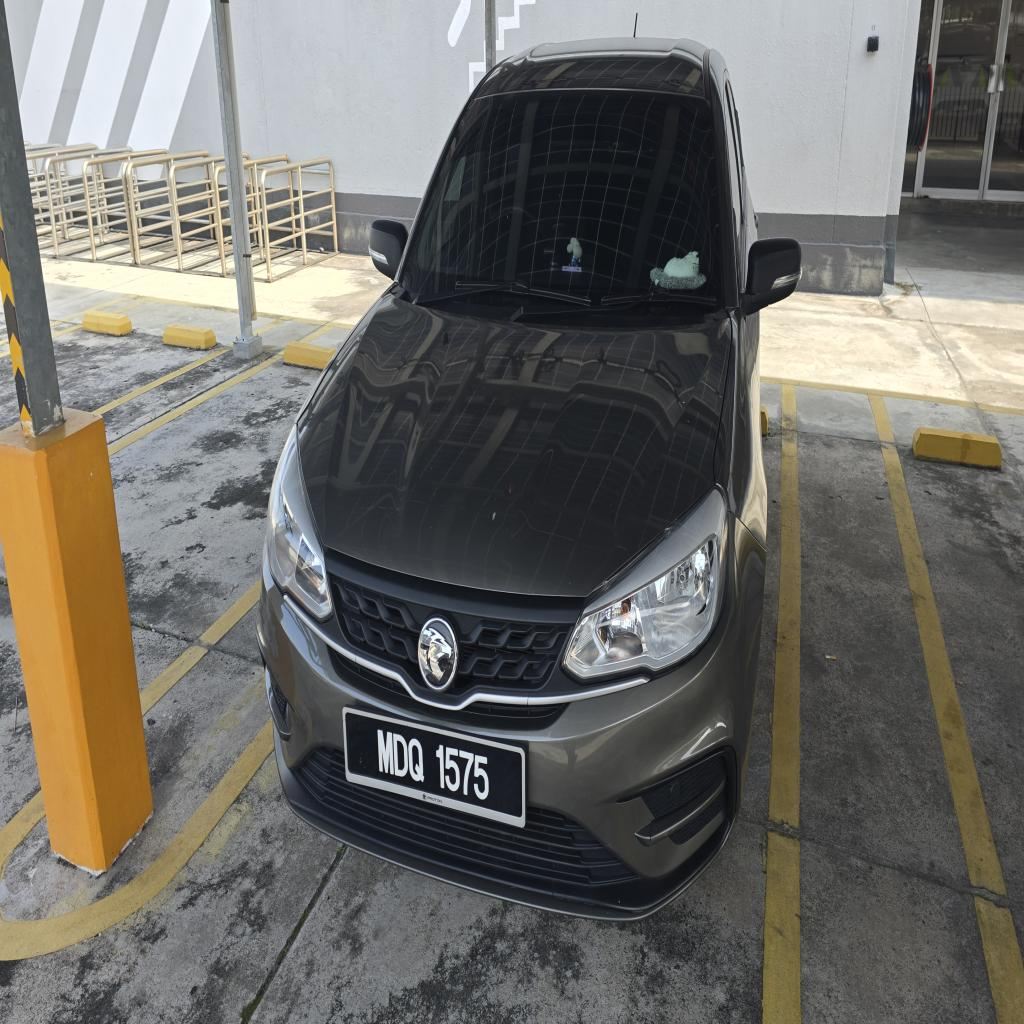car: (258, 40, 800, 918)
car plate: (344, 708, 525, 827)
